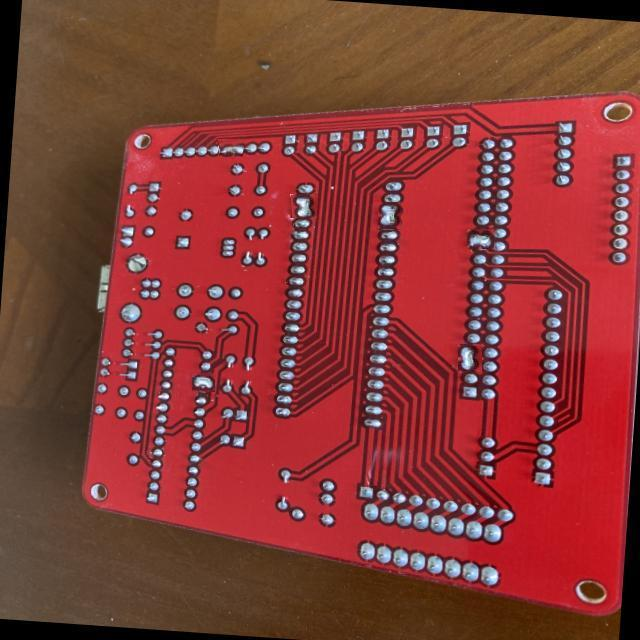damged: (378, 201, 402, 230), (458, 344, 482, 373), (290, 194, 317, 218), (468, 227, 492, 251), (193, 372, 214, 394), (218, 140, 243, 158)
